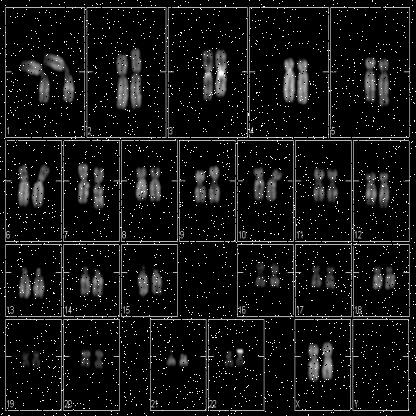1: (46, 43, 75, 107), (18, 60, 50, 106)
10: (267, 160, 283, 208), (251, 164, 266, 205)
11: (326, 163, 338, 212), (313, 164, 325, 209)
12: (364, 169, 379, 211), (380, 170, 392, 212)
13: (33, 264, 47, 302), (18, 264, 31, 300)
14: (77, 264, 91, 300), (93, 264, 106, 300)
15: (135, 263, 150, 299), (152, 264, 164, 302)
16: (254, 257, 268, 291), (269, 258, 282, 292)
17: (310, 261, 322, 292), (326, 260, 336, 294)
18: (370, 260, 384, 292), (384, 260, 396, 296)
19: (20, 346, 31, 378), (32, 346, 42, 378)
2: (112, 48, 130, 112), (130, 34, 144, 115)
20: (80, 347, 92, 372), (96, 346, 104, 374)
21: (179, 343, 190, 376), (164, 347, 178, 370)
22: (234, 339, 246, 379), (223, 344, 234, 373)
3: (214, 42, 230, 102), (201, 38, 214, 106)
4: (282, 56, 297, 108), (298, 50, 310, 112)
5: (378, 42, 391, 115), (364, 53, 376, 110)
6: (32, 156, 48, 210), (16, 160, 30, 209)
7: (76, 160, 90, 206), (93, 163, 105, 214)
8: (148, 162, 163, 209), (136, 162, 146, 206)
9: (208, 162, 223, 210), (194, 166, 206, 208)
X: (321, 337, 335, 386), (308, 337, 320, 386)
